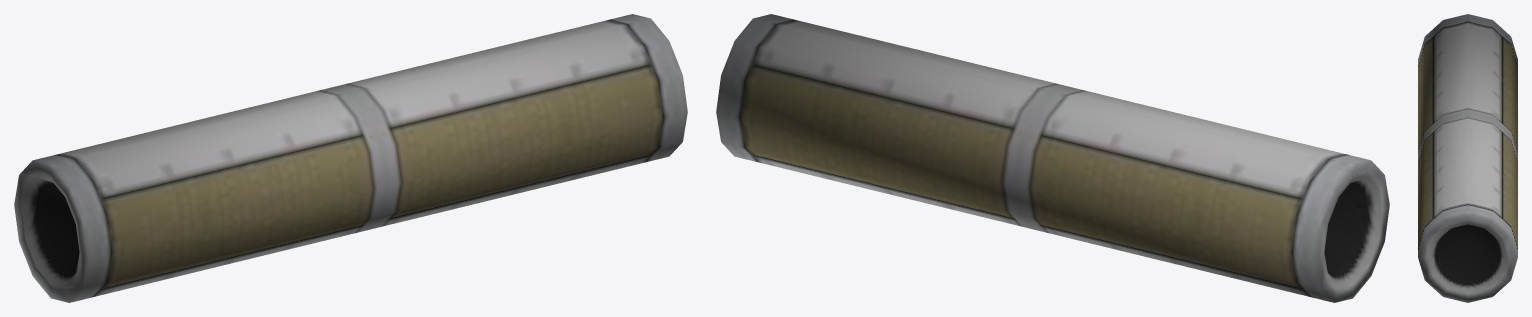
3 renders of one model, left to right at view 1: azimuth 30°, elevation 25°; view 2: azimuth 150°, elevation 25°; view 3: azimuth 270°, elevation 25°, orthographic. The views are drawn at different scales.
Parts seen in each view (by area): view 1: Tube_04; view 2: Tube_04; view 3: Tube_04.
Part boxes in pixels (bbox=[...]): Tube_04: bbox=[14, 14, 687, 302]; Tube_04: bbox=[716, 14, 1389, 302]; Tube_04: bbox=[1418, 14, 1517, 302].
Bounding box in the file's own units: 2 × 0.4252 × 0.4252.
Materials: 1 (1 with a texture image).
